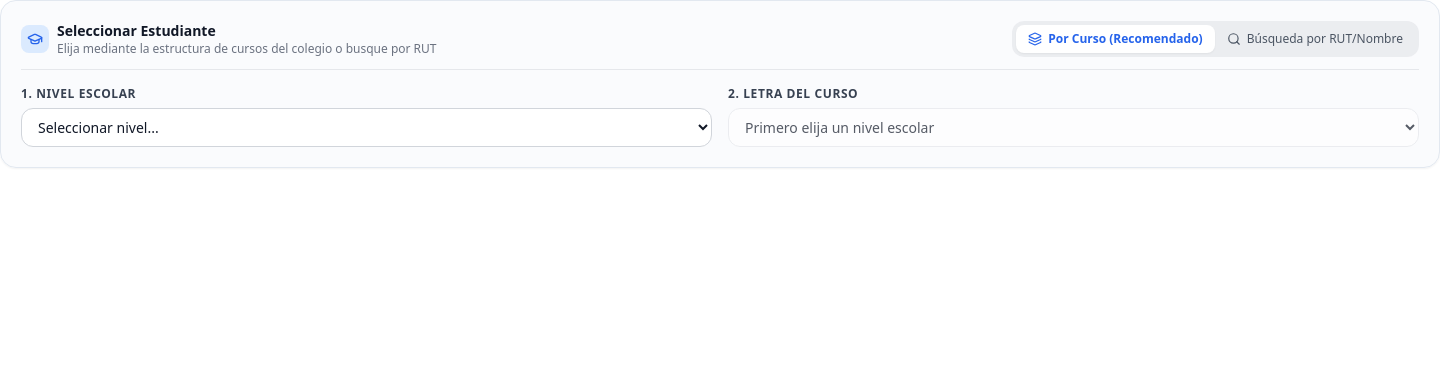
Test: SelectorEstudianteCascada (HU 5.5 & 5.5.2) › muestra estado Agregado cuando el estudiante ya está en selectedEstudiantesIds
Select "1° Básico" in the dropdown named "Seleccionar Nivel Escolar". click: (366, 128)
box: top-left (21, 108), bottom-right (712, 147)
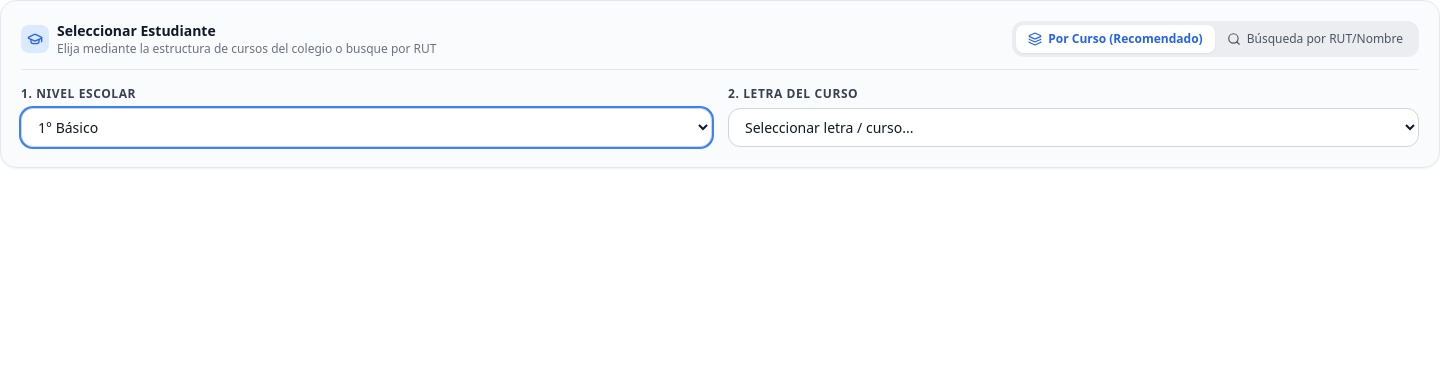
Select "1° Básico A" in the dropdown named "Seleccionar Letra del Curso". click: (1074, 128)
box: top-left (728, 108), bottom-right (1419, 147)
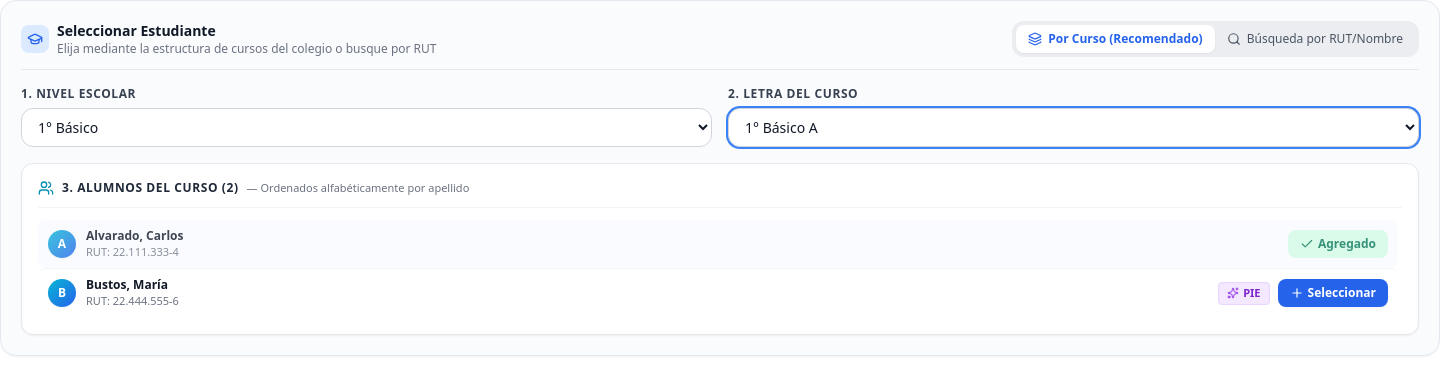
Expected: the text "Agregado" is shown, top-left (1318, 236), bottom-right (1376, 252)
